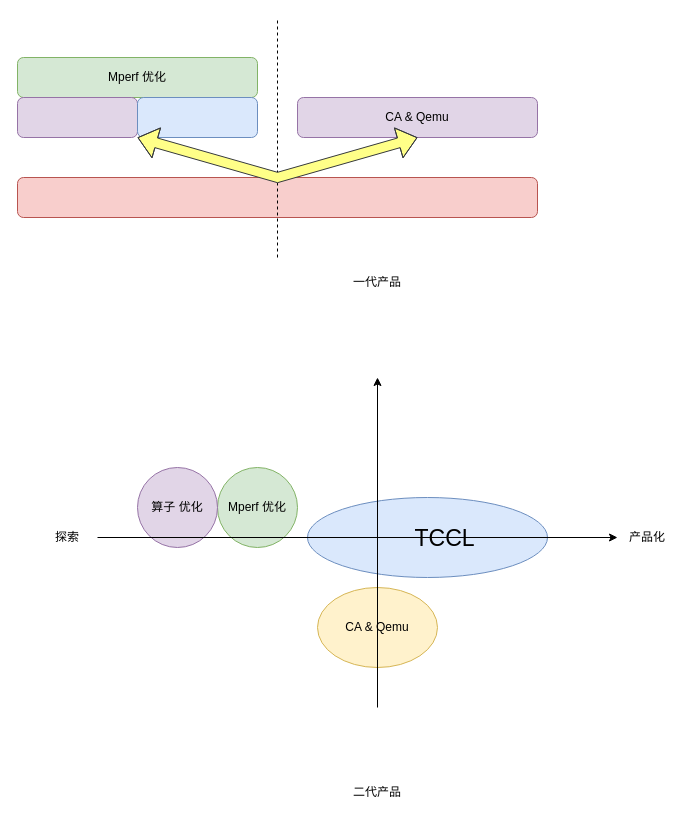
Some shapes in this 695 by 825 pixel diagram are drawn without their labels. Each missing label, with the box of its shape:
硬件体系结构: (16, 176, 538, 218)
算子优化: (16, 96, 138, 138)
通信优化: (136, 96, 258, 138)
